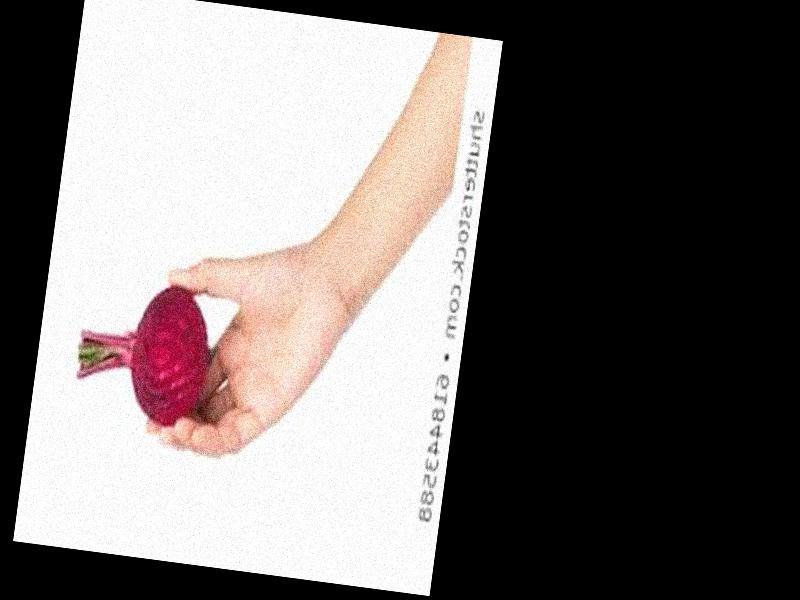Beet: (69, 275, 215, 433)
